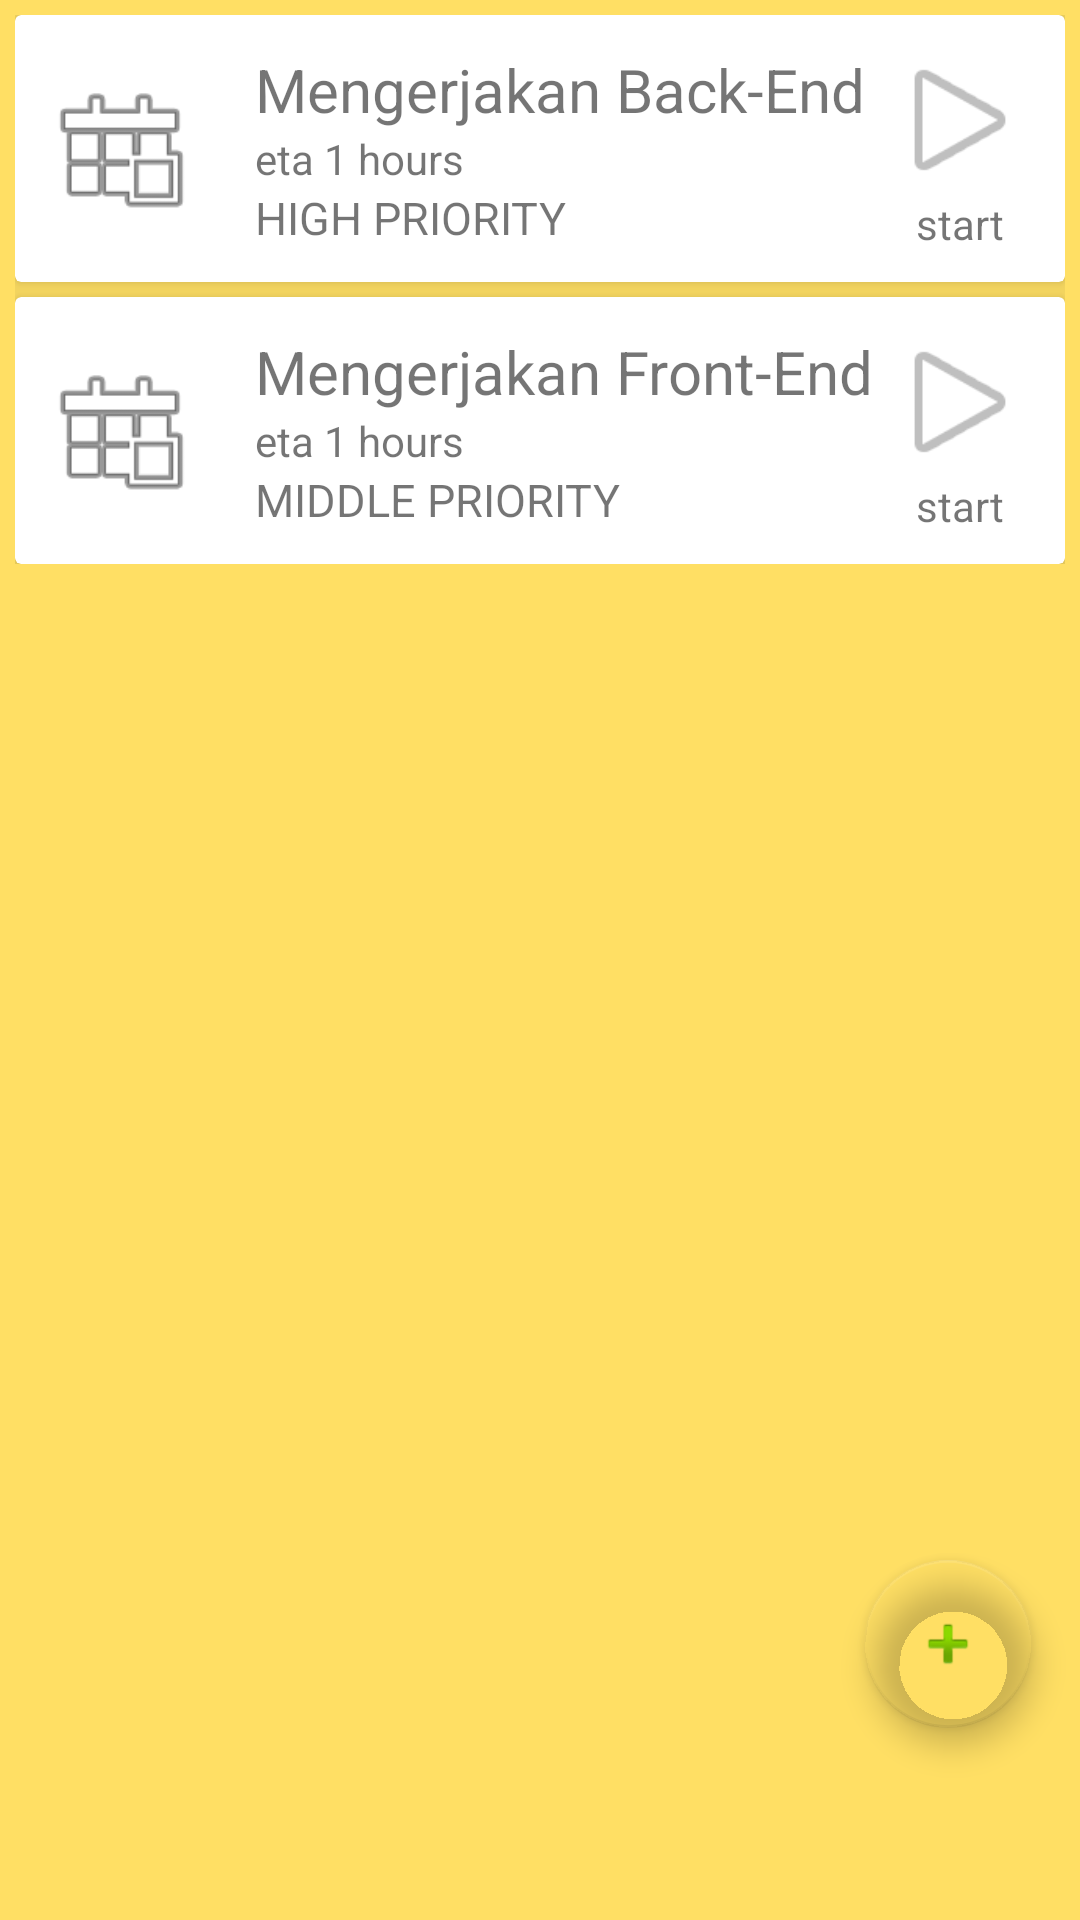

Point at icon controls on the screen. Image size 1080*1920, points as point (x, y).
add: point (949, 1658)
play: point (959, 120), point (960, 402)
today: point (121, 150), point (121, 432)
